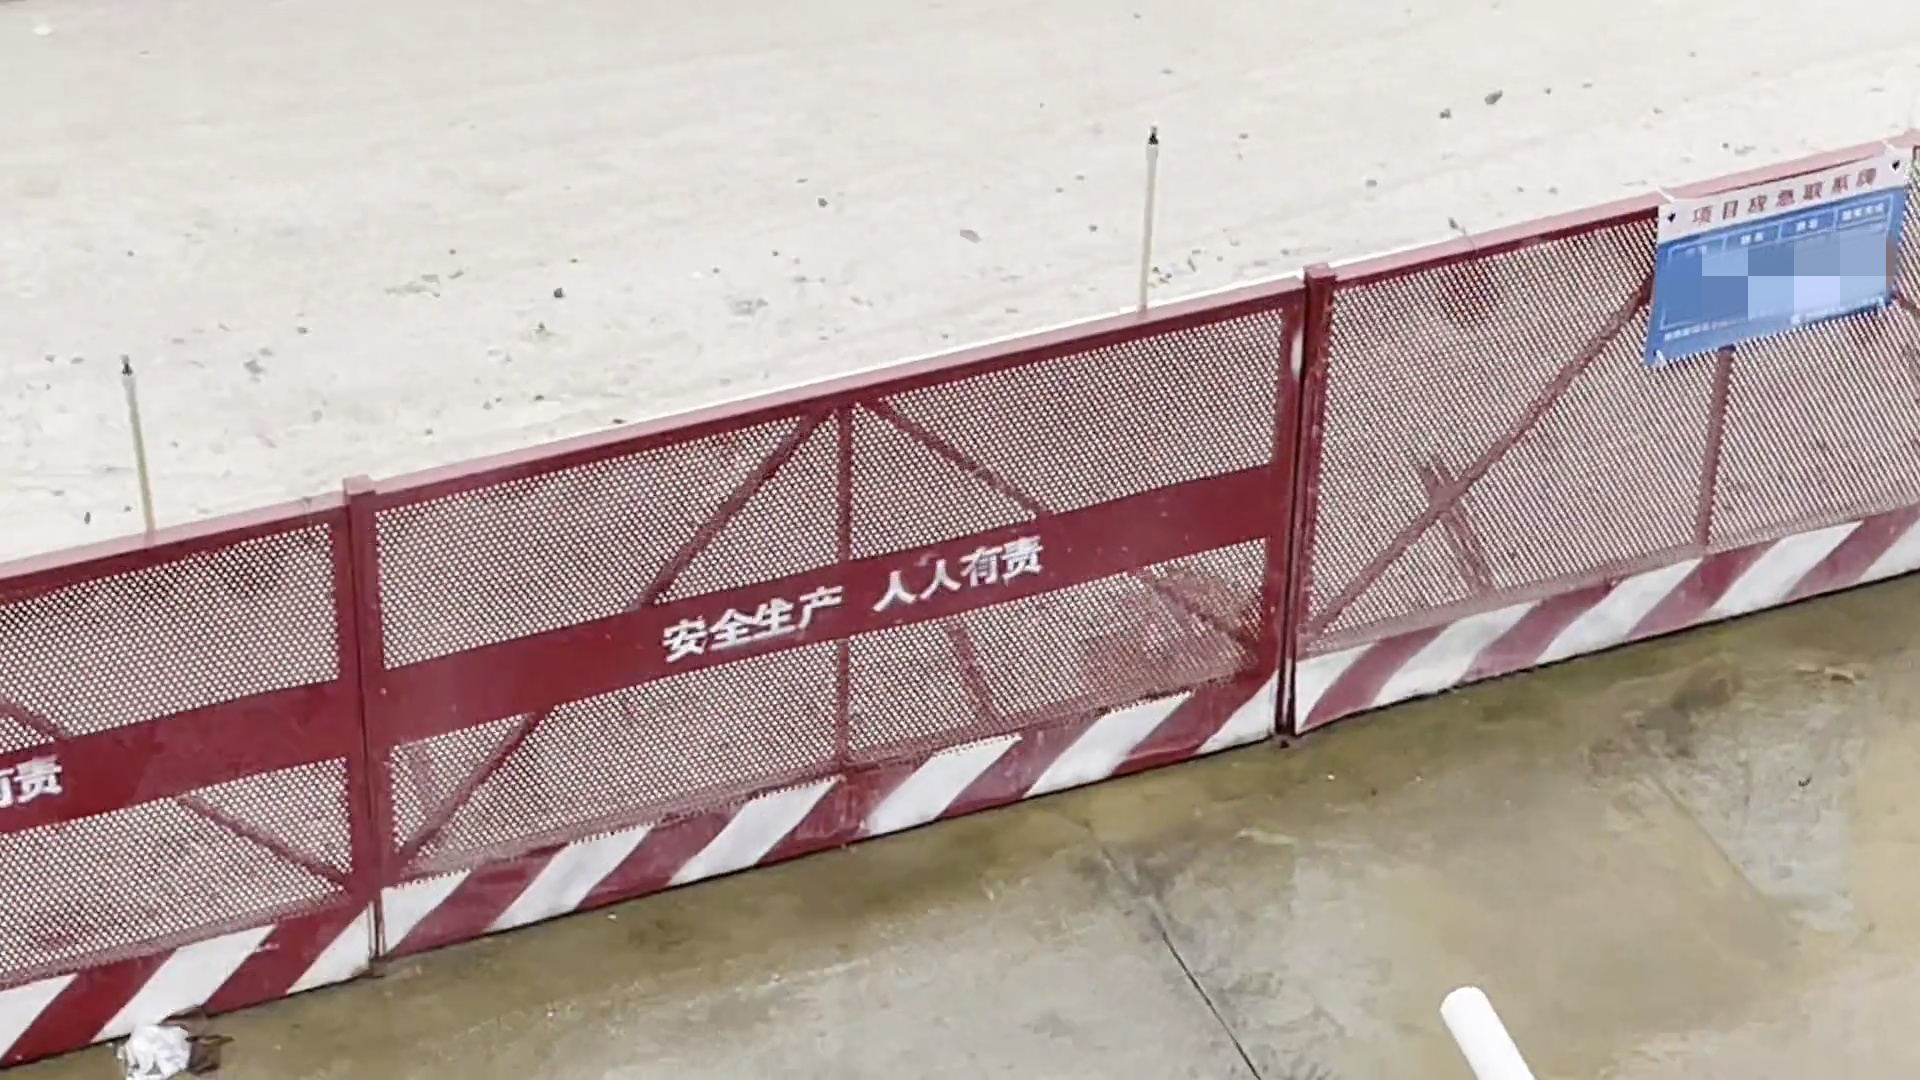fence: (17, 266, 1833, 994)
slogan: (1648, 187, 1882, 320)
